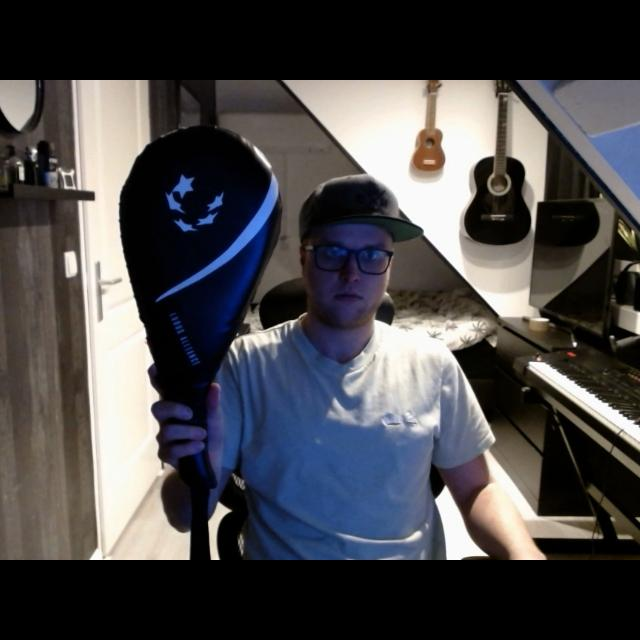paddle: (113, 121, 283, 415)
